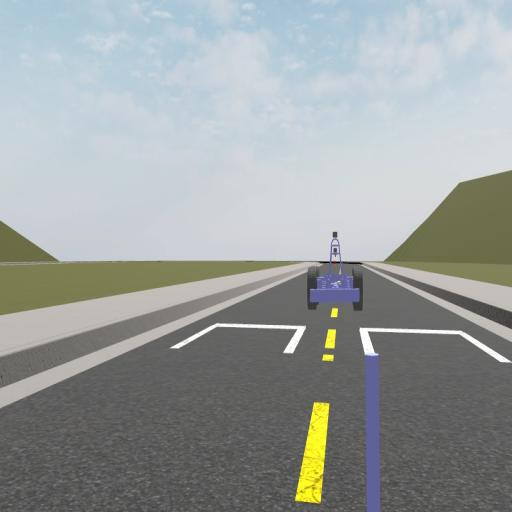ERP-42: (307, 231, 362, 310)
